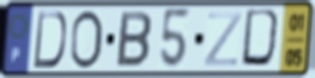5: (158, 6, 193, 73)
B: (114, 9, 154, 70)
D: (239, 7, 285, 71), (31, 9, 68, 70)
O: (68, 8, 104, 71)
Z: (202, 10, 244, 69)
